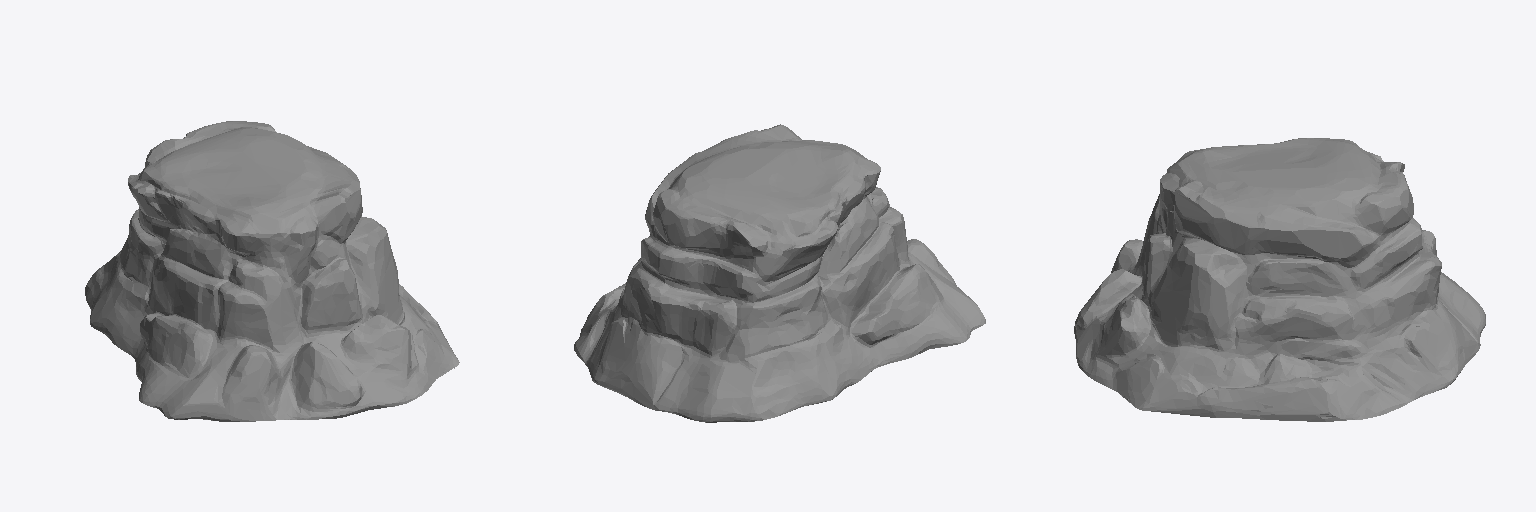
File: Cliff_bereg_05.obj
3 renders of one model, left to right at view 1: azimuth 30°, elevation 25°; view 2: azimuth 150°, elevation 25°; view 3: azimuth 270°, elevation 25°, orthographic.
Visible parts, largest first — view 1: g Group64600_Group64600; view 2: g Group64600_Group64600; view 3: g Group64600_Group64600.
Part boxes in pixels (x1,y1,x2,y2): g Group64600_Group64600: (85, 121, 459, 421); g Group64600_Group64600: (574, 124, 985, 422); g Group64600_Group64600: (1074, 138, 1485, 421).
Bounding box in the file's own units: 3.87 × 2.14 × 4.41.